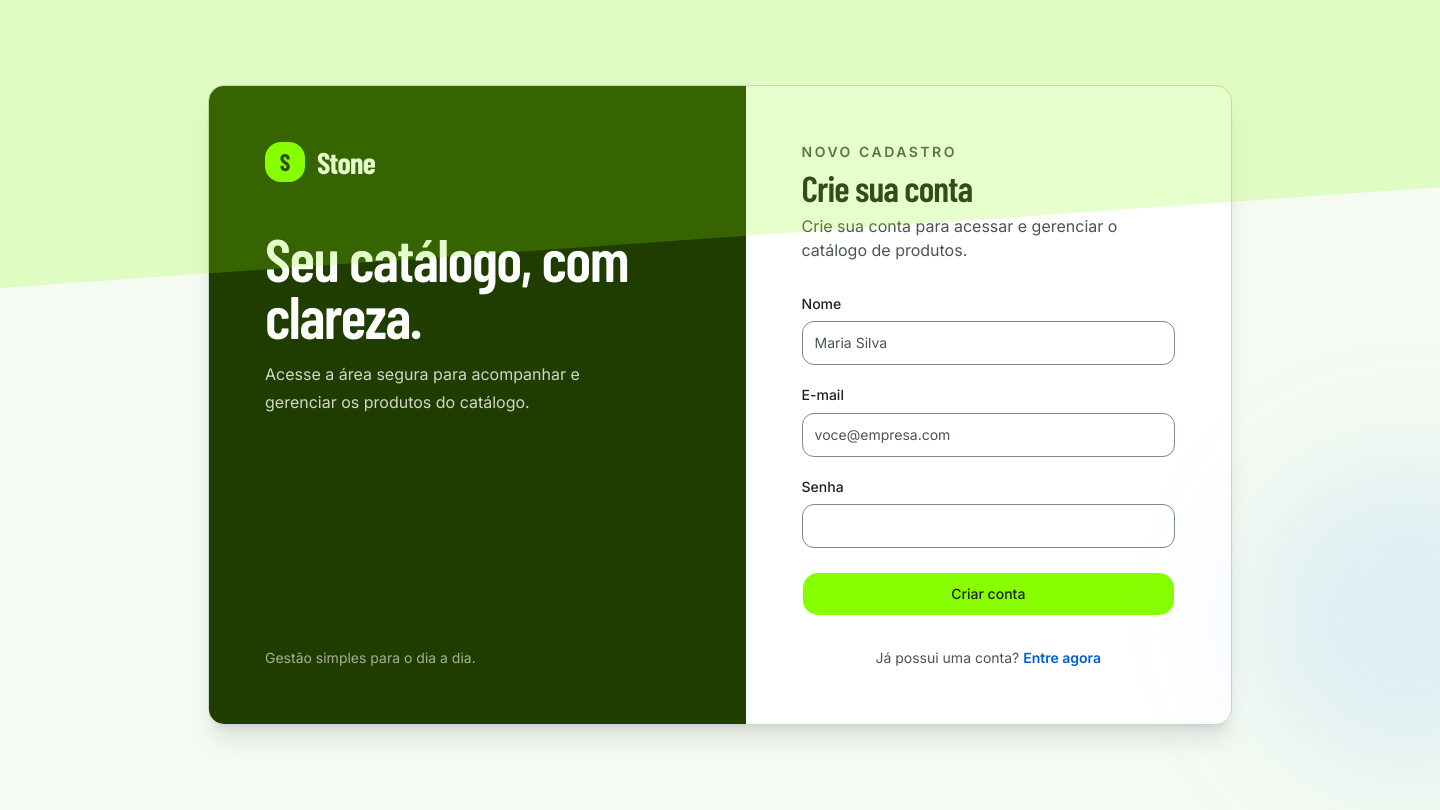
Test: RegisterScreen › expõe os campos nomeados e valida dados próximos aos controles
This screenshot has width=1440, height=810.
What coordinates should you click on to do the following:
click the button "Criar conta"
I would click on:
 (988, 594)
Its box is [802, 572, 1175, 616].
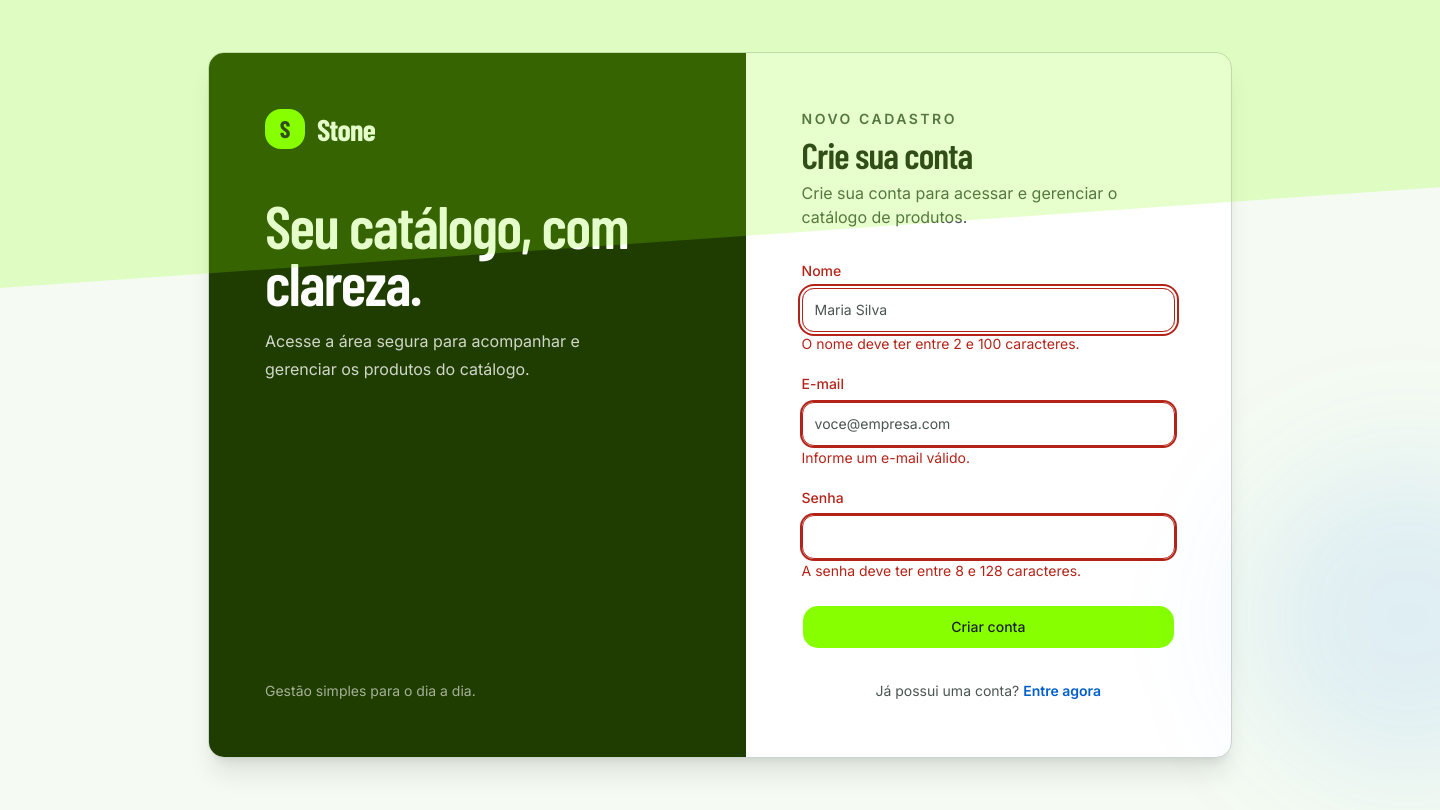
Now the text "O nome deve ter entre 2 e 100 caracteres." is shown, box [802, 335, 1080, 352]
Now the text "Informe um e-mail válido." is shown, box [802, 449, 970, 466]
Now the text "A senha deve ter entre 8 e 128 caracteres." is shown, box [802, 562, 1081, 579]
